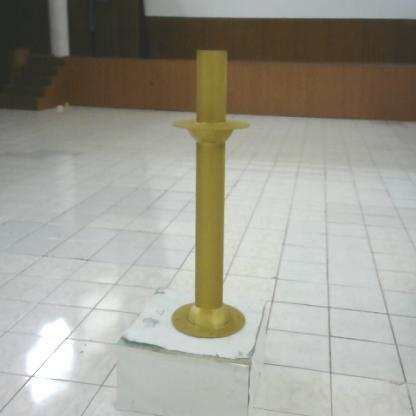pole: (169, 42, 255, 346)
